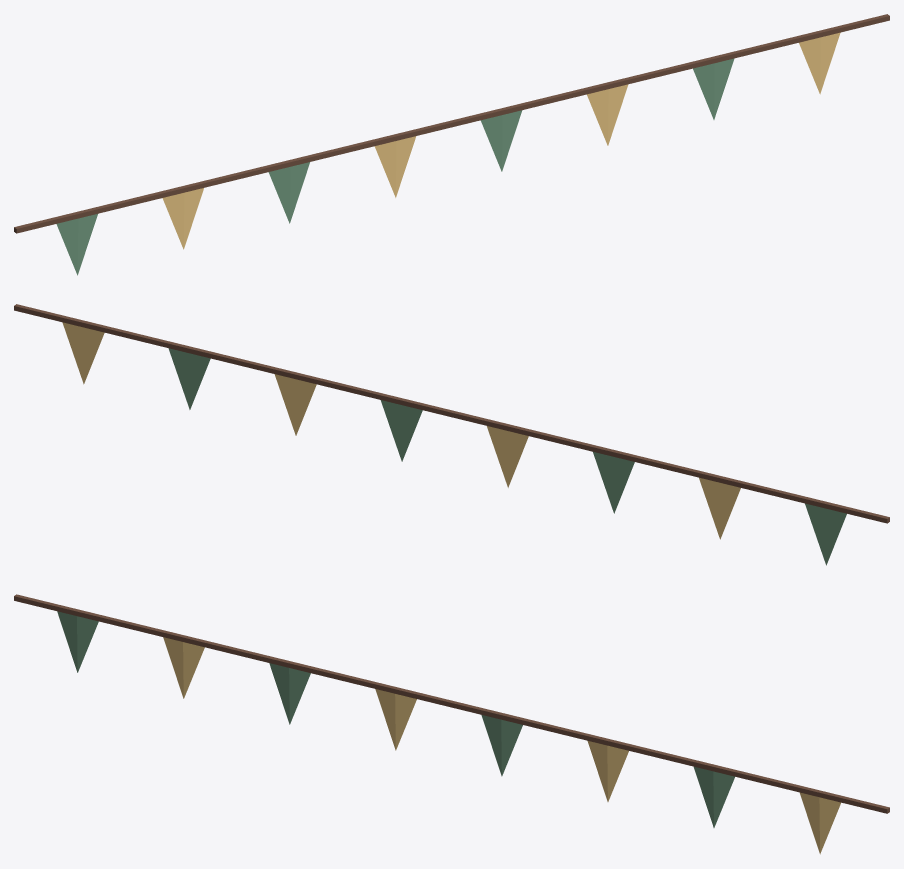
File: bunting.glb
3 renders of one model, top to bottom at view 1: azimuth 30°, elevation 25°; view 2: azimuth 150°, elevation 25°; view 3: azimuth 330°, elevation 25°, orthographic.
Parts seen in each view (by area): view 1: BuntingMesh; view 2: BuntingMesh; view 3: BuntingMesh.
Boxes of the visible parts, x1=… form: BuntingMesh: x1=14, y1=14, x2=889, y2=275; BuntingMesh: x1=14, y1=304, x2=889, y2=565; BuntingMesh: x1=14, y1=594, x2=889, y2=854.
Size of the model in its own units: 7 by 0.4824 by 0.035.
Materials: 1 (1 with a texture image).
